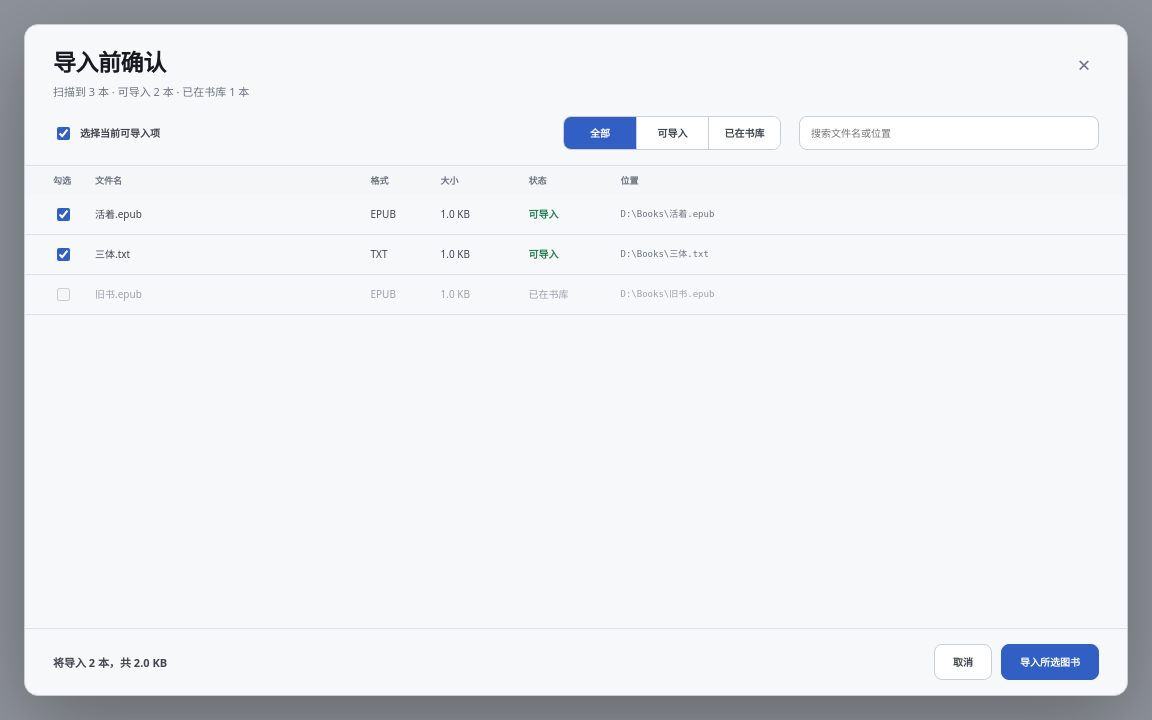
Test case: LibraryImportReviewDialog › filters the review without losing the selection state
Click the radio button labelled "已在书库".
click(744, 133)  # box [708, 117, 780, 149]
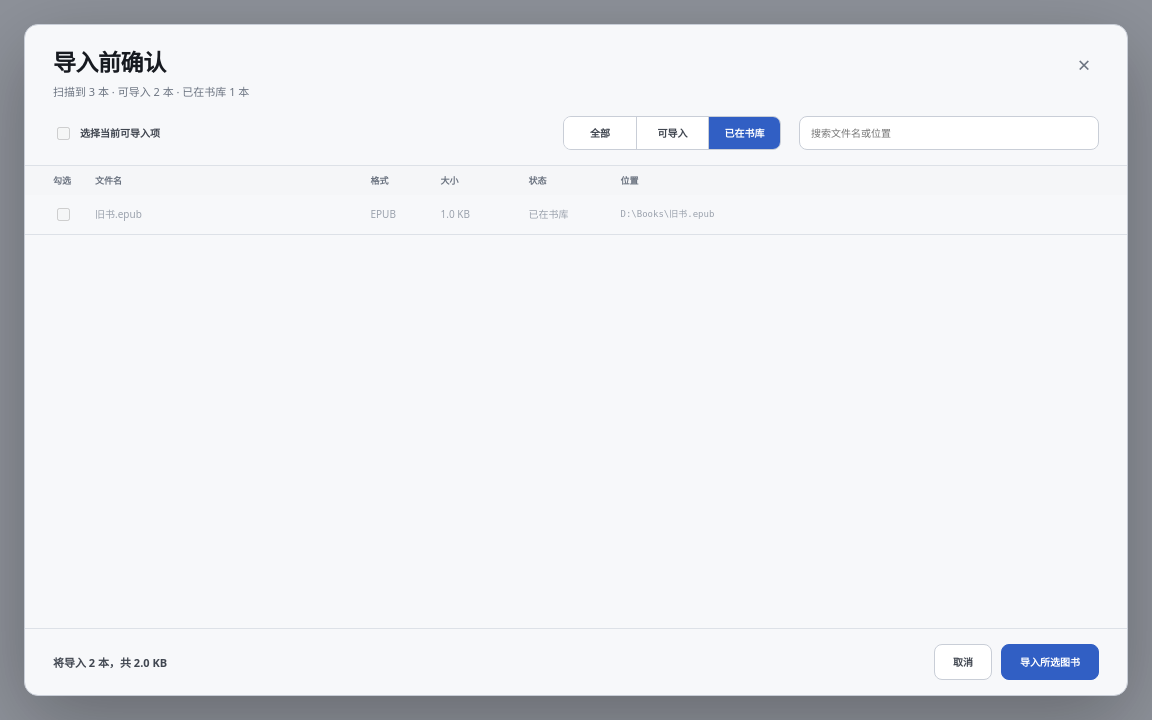
Expected: the text "旧书.epub" is shown, [87, 195, 362, 235]
Expected: the text "活着.epub" is gone
Click the radio button labelled "全部".
click(600, 133)  # box [564, 117, 636, 149]
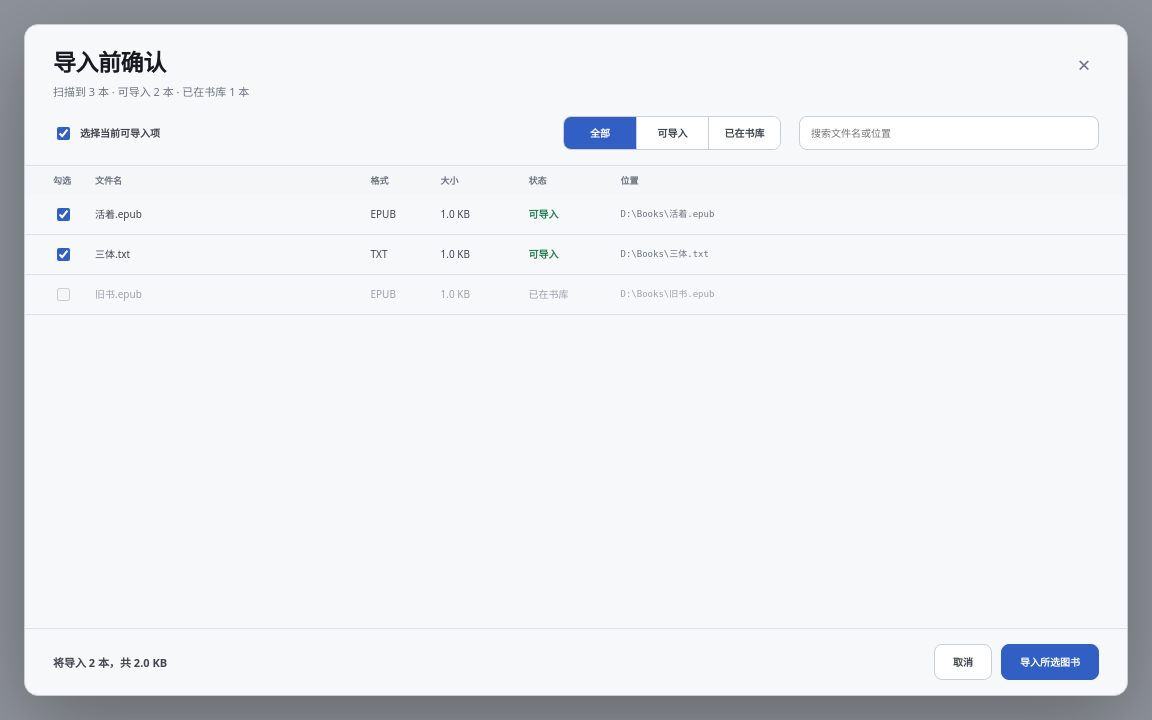
Expected: the checkbox named "选择 活着.epub" is checked, [57, 208, 70, 221]
